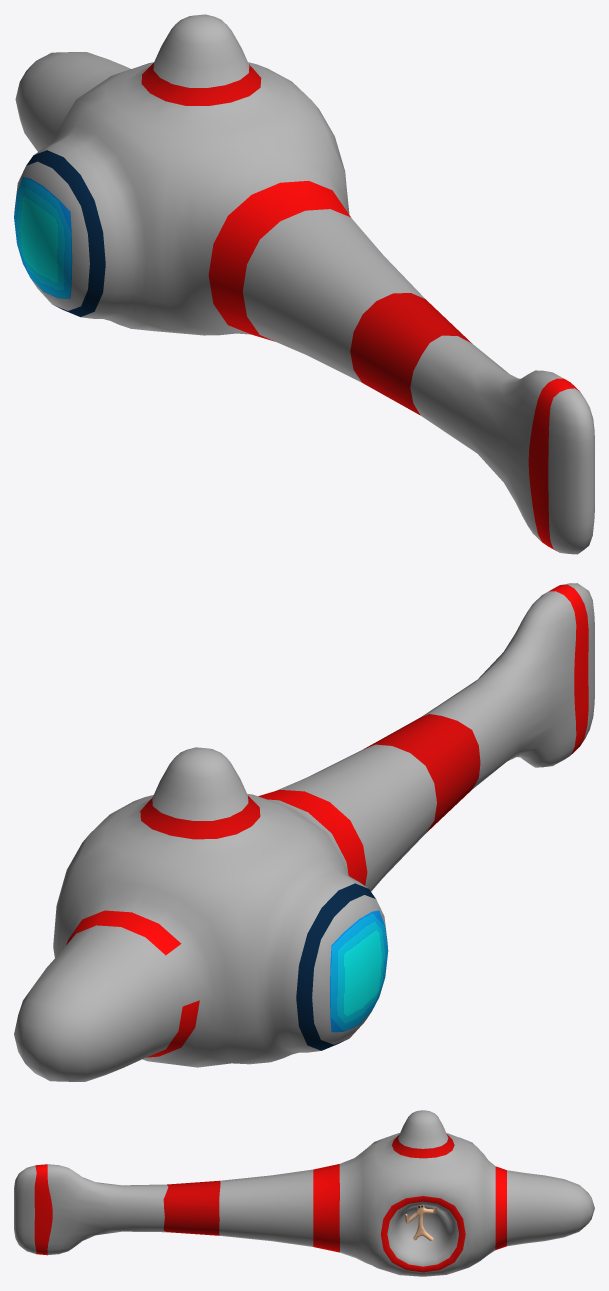
Rendered from Heli.fbx.
The picture shows the model from 3 angles, top to bottom: view 1: azimuth 30°, elevation 25°; view 2: azimuth 150°, elevation 25°; view 3: azimuth 270°, elevation 25°; orthographic projection. The views are drawn at different scales.
Parts seen in each view (by area): view 1: Cube; view 2: Cube; view 3: Cube, Vert.
Boxes of the visible parts, x1,y1,x2,y2 form: Cube: (14,14,594,554); Cube: (14,583,594,1081); Cube: (14,1110,594,1276); Vert: (404,1205,437,1240).
Bounding box in the file's own units: 2.55 × 2.61 × 9.04.
